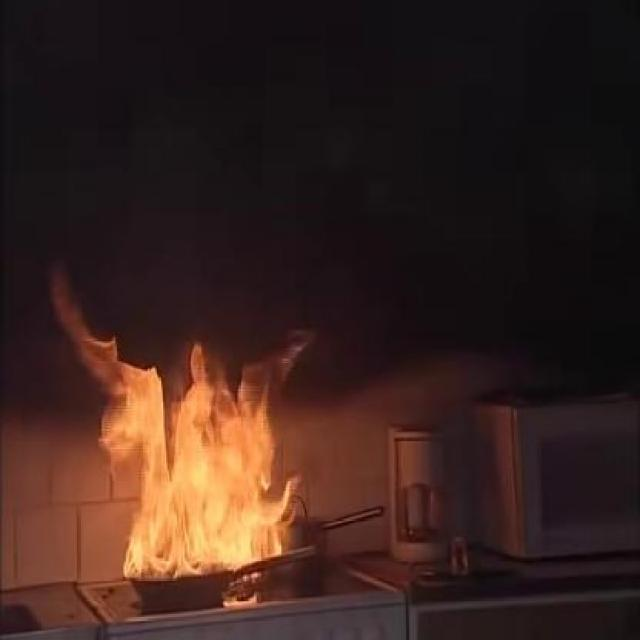fire: (77, 319, 308, 573)
smoke: (38, 238, 76, 316)
